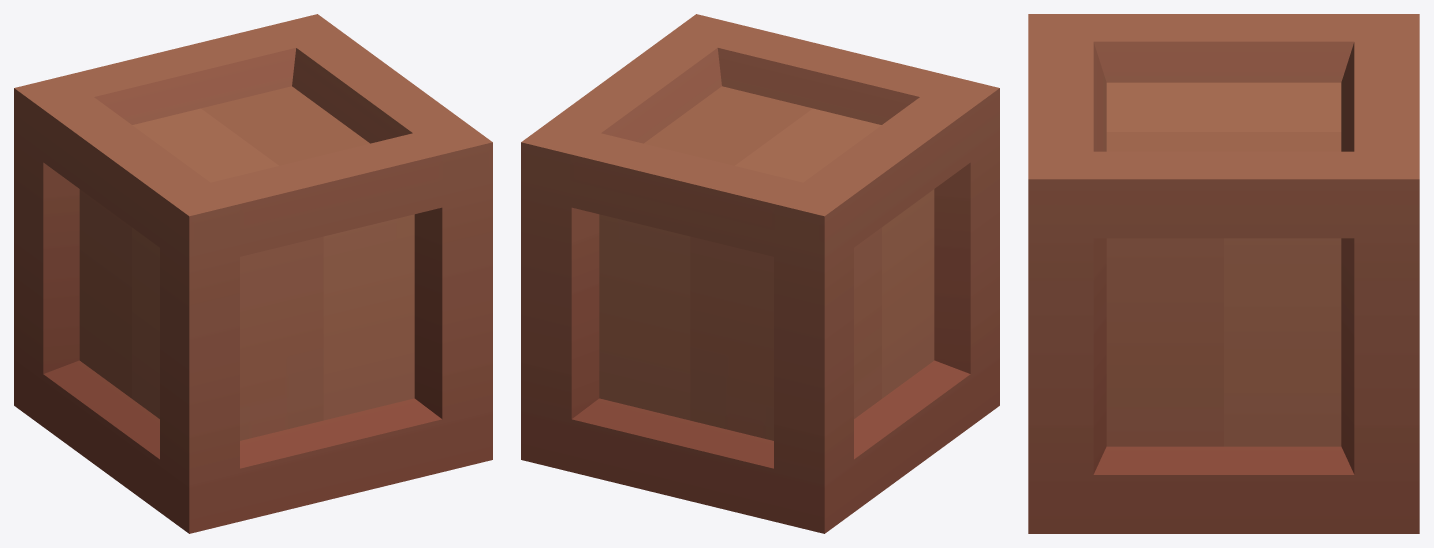
File: crate.glb
The picture shows the model from 3 angles, left to right: view 1: azimuth 30°, elevation 25°; view 2: azimuth 150°, elevation 25°; view 3: azimuth 270°, elevation 25°; orthographic projection. The views are drawn at different scales.
Parts seen in each view (by area): view 1: crate_A_big; view 2: crate_A_big; view 3: crate_A_big.
Boxes of the visible parts, x1,y1,x2,y2 form: crate_A_big: [14, 14, 492, 533]; crate_A_big: [521, 14, 999, 533]; crate_A_big: [1028, 14, 1419, 533].
Bounding box in the file's own units: 0.21 × 0.21 × 0.21.
Materials: 1 (1 with a texture image).
